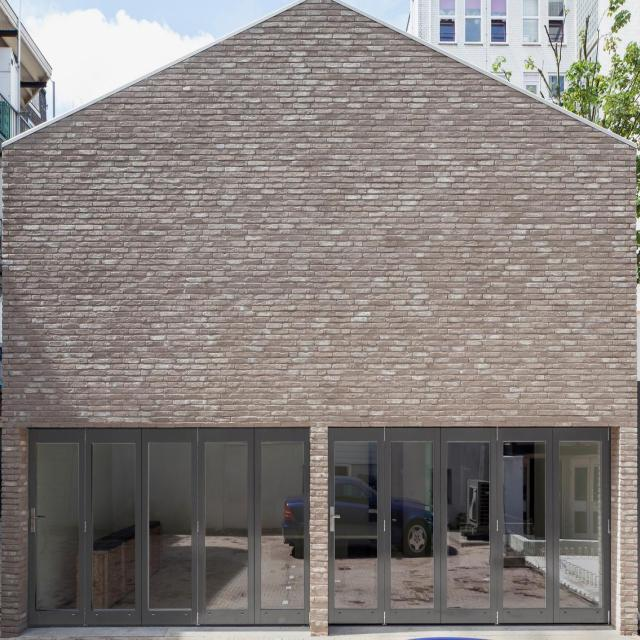door: (28, 425, 310, 628), (327, 424, 613, 623)
